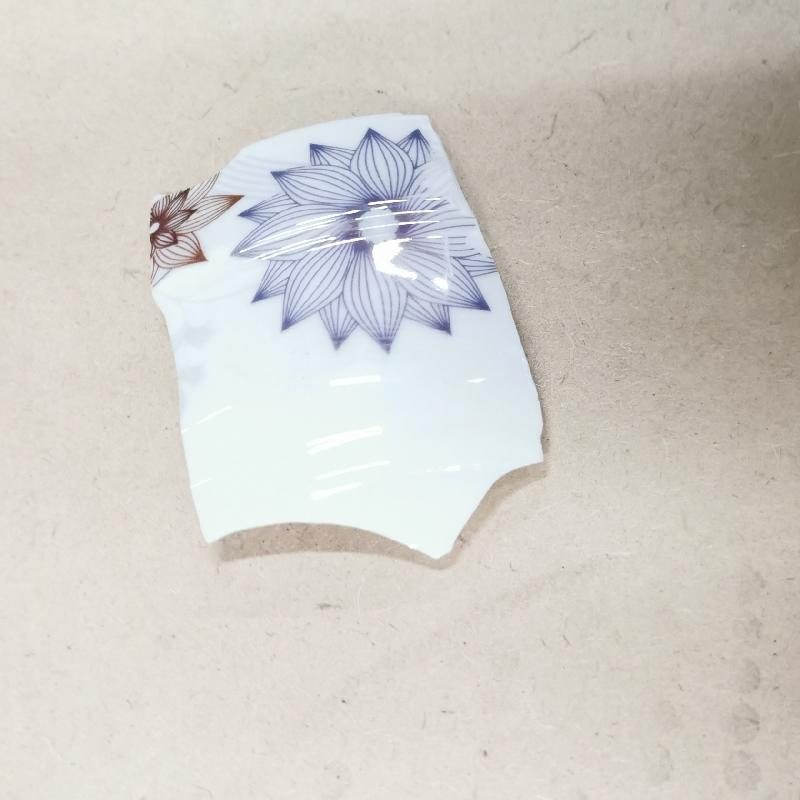ceram: (132, 109, 560, 569)
